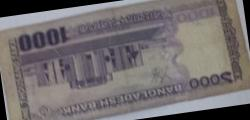1000 taka: (11, 11, 246, 97)
